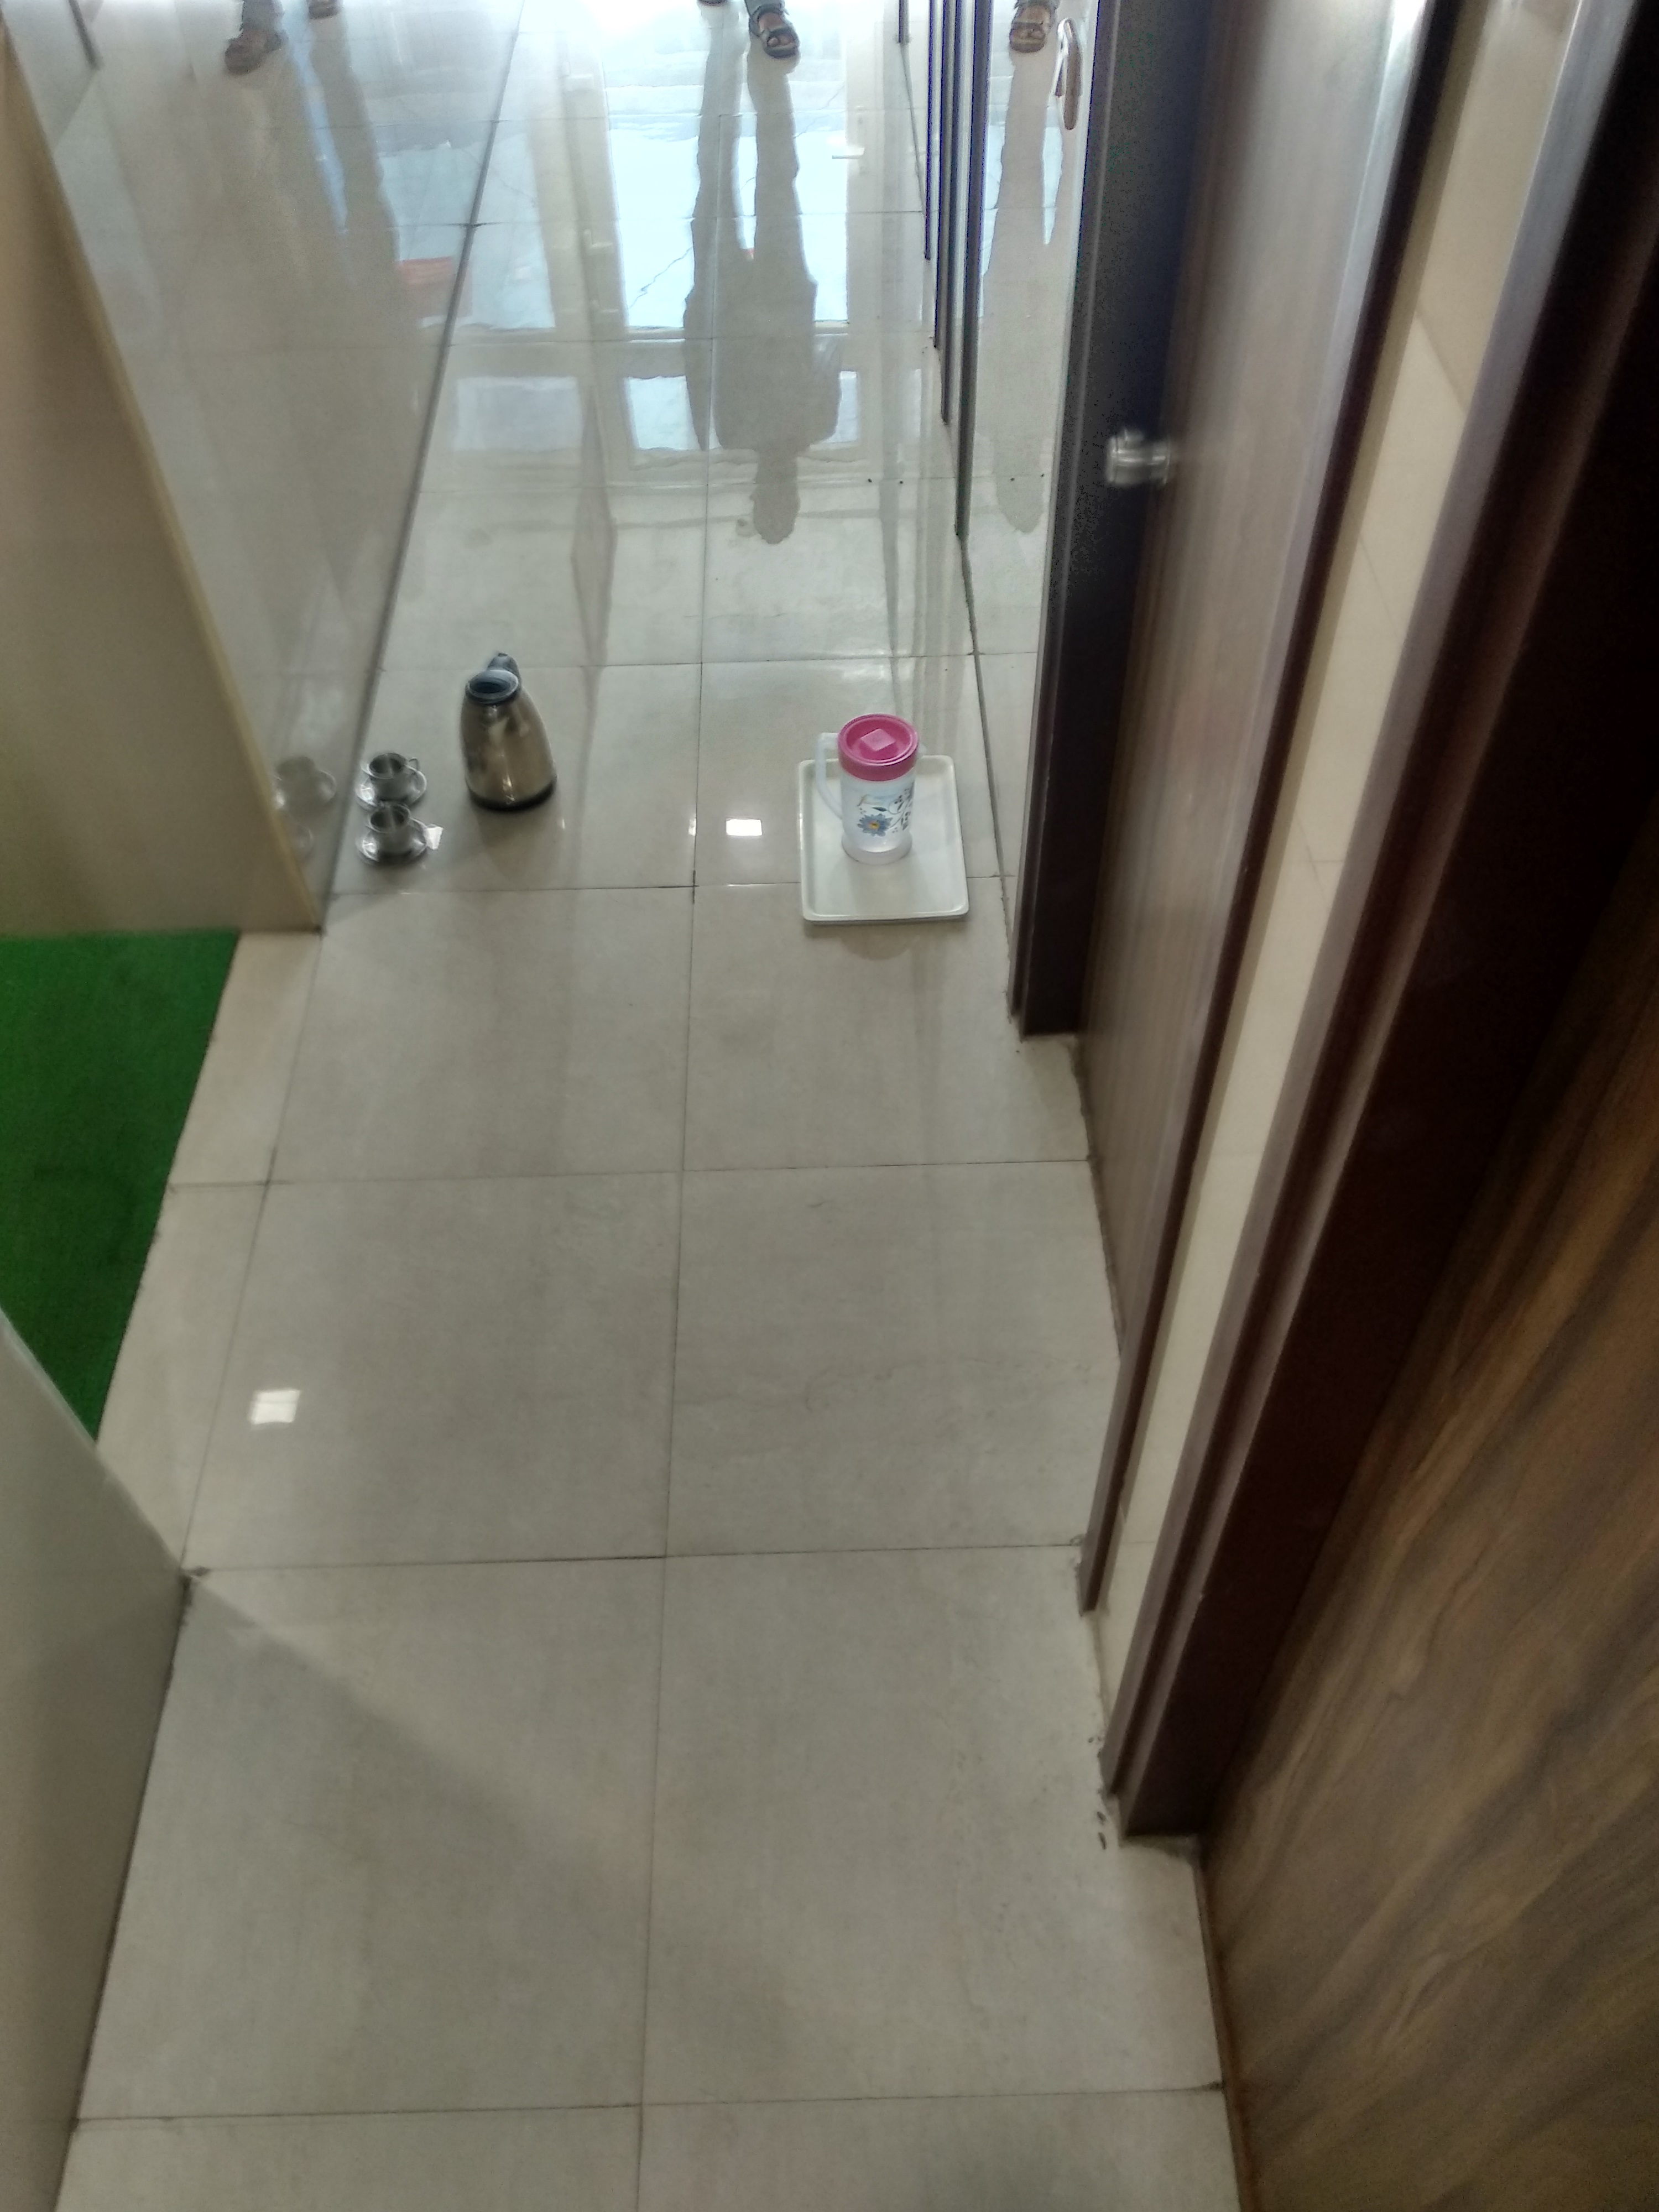CUP: (357, 805, 430, 867), (354, 747, 429, 803)
JUG: (809, 698, 934, 876), (448, 653, 580, 812)
